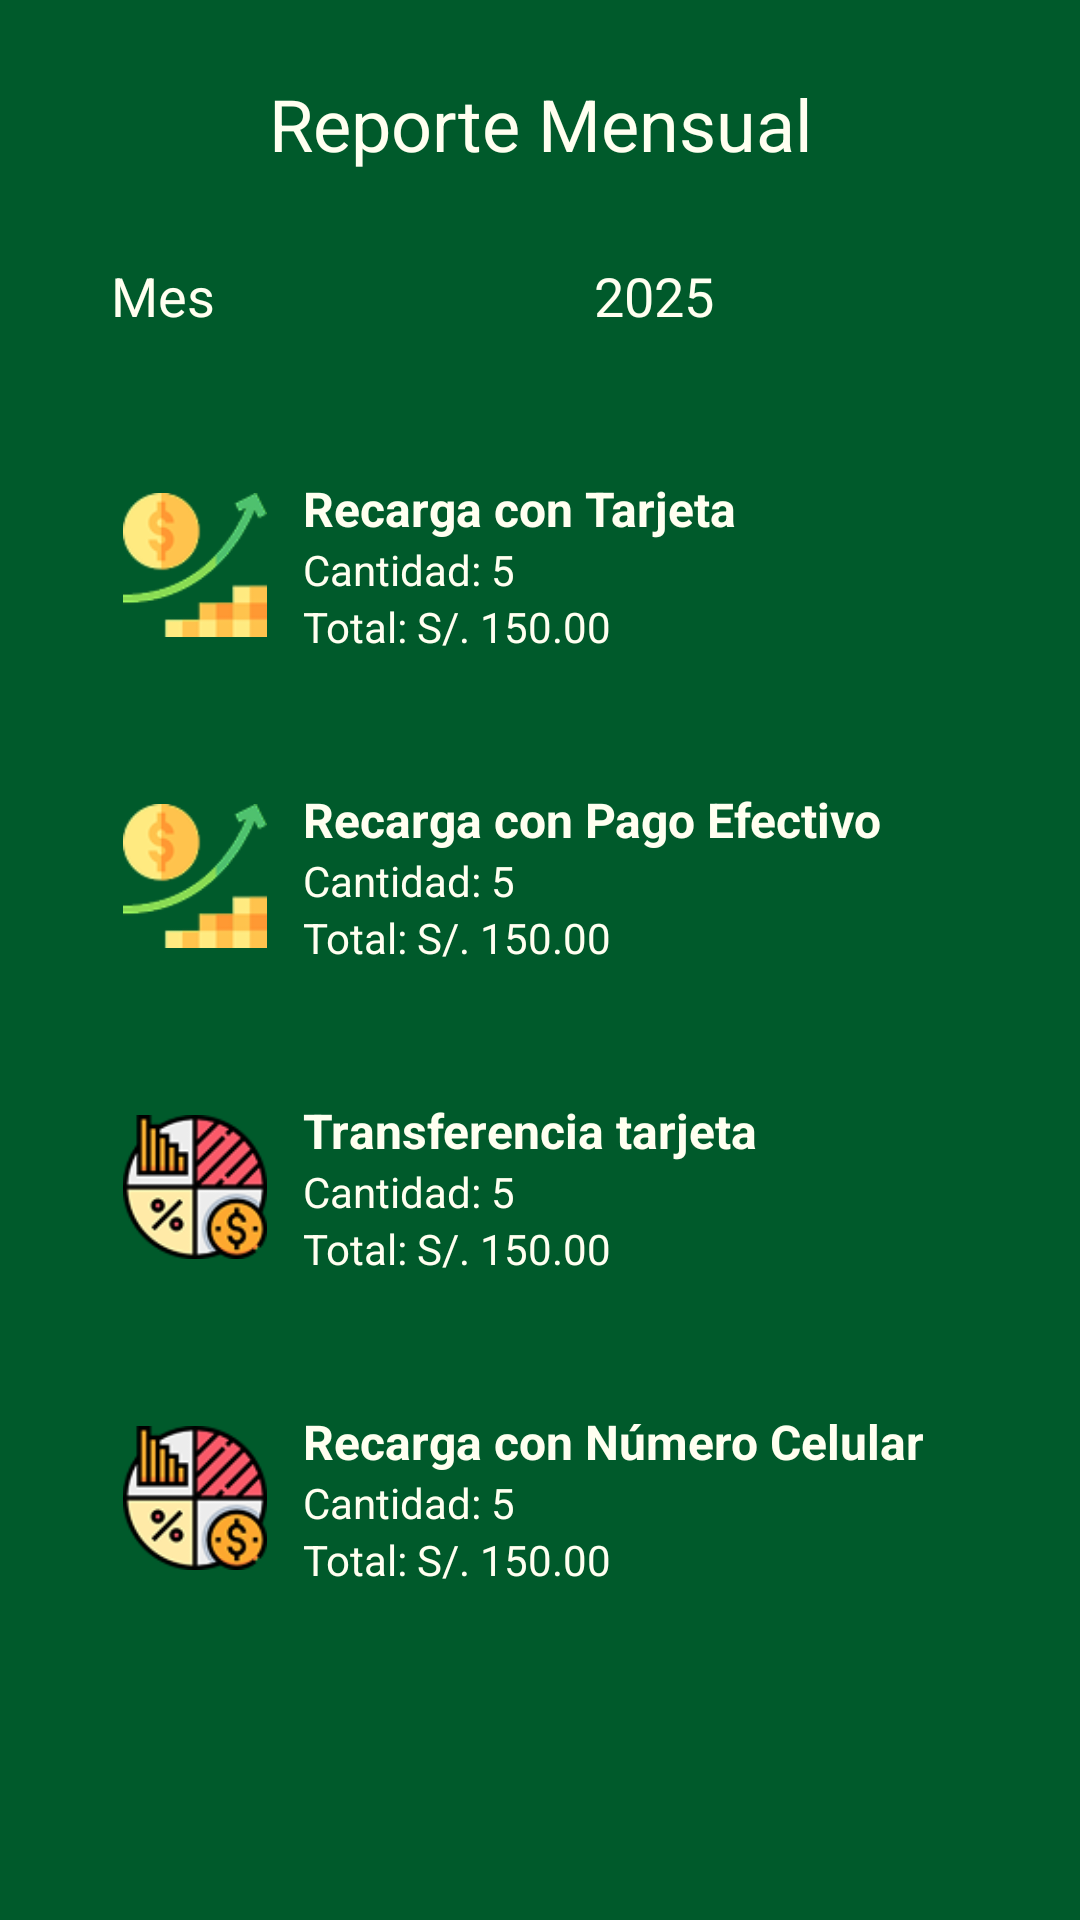

Named icons in this screenshot (1080px×1920px) and their centers, point (x, y):
reporte: point (195, 565), point (195, 876), point (195, 1187), point (195, 1498)
